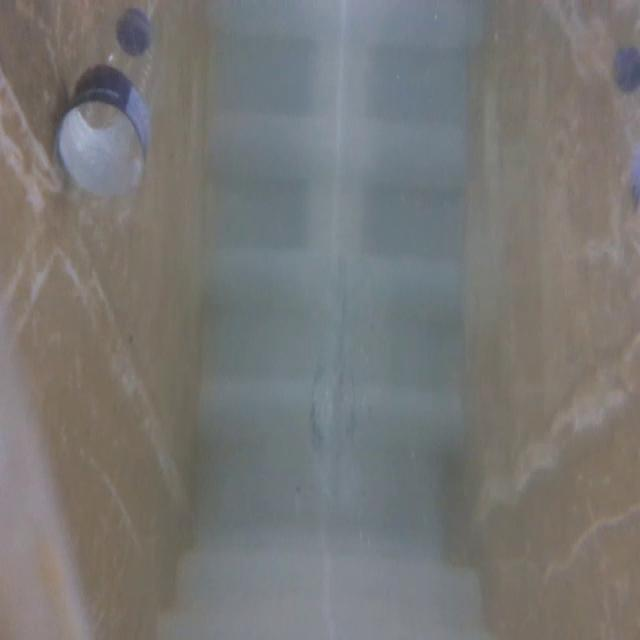plastic bottle: (54, 8, 174, 290)
